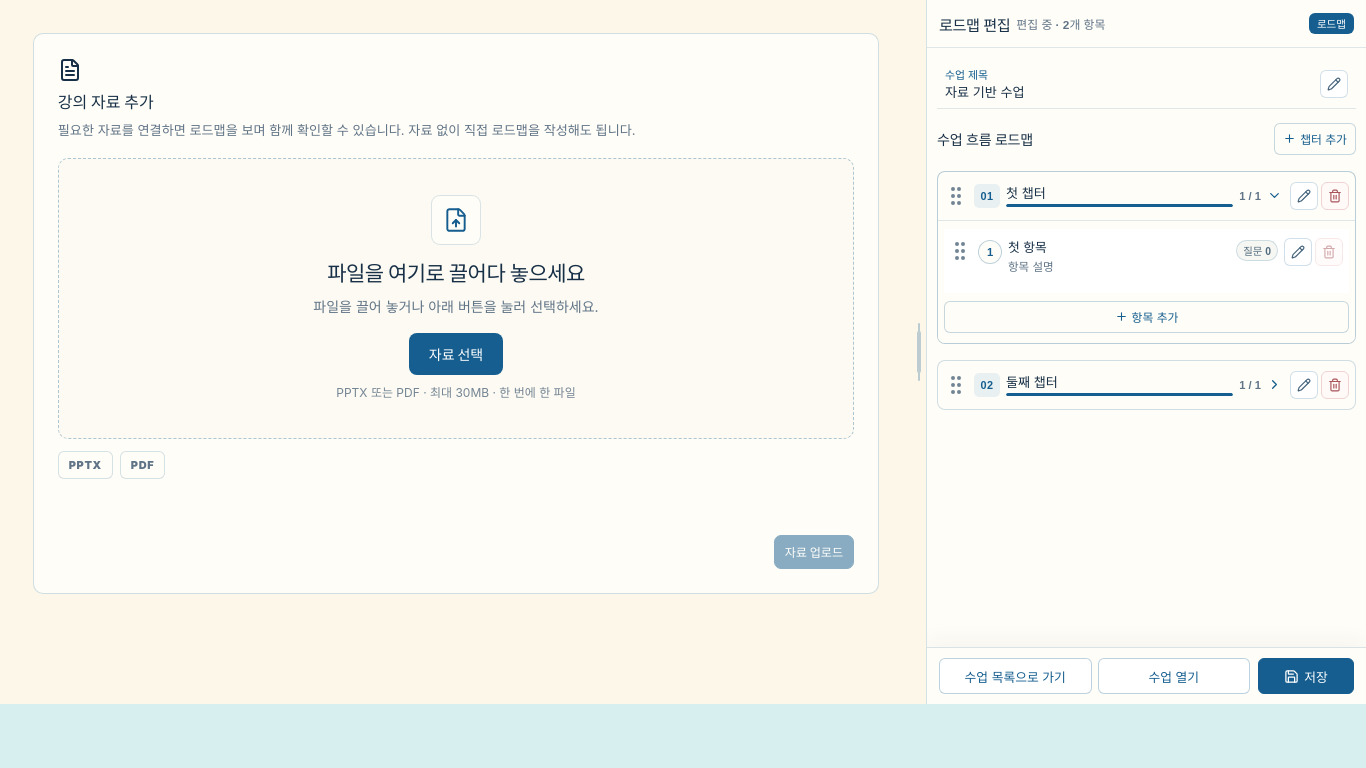
Scenario: CourseFlowEditorPage › 현재 작업 챕터만 기본으로 펼치고 다른 챕터를 선택하면 전환한다
This screenshot has width=1366, height=768.
Expected: the heading "로드맵 편집" is shown, [939,12,1010,34]
Expected: the text "첫 항목" is shown, [1008,240,1047,255]
Click the button with aria-label "챕터 02 펼치기" at (1032, 382), box [970,371,1286,399]
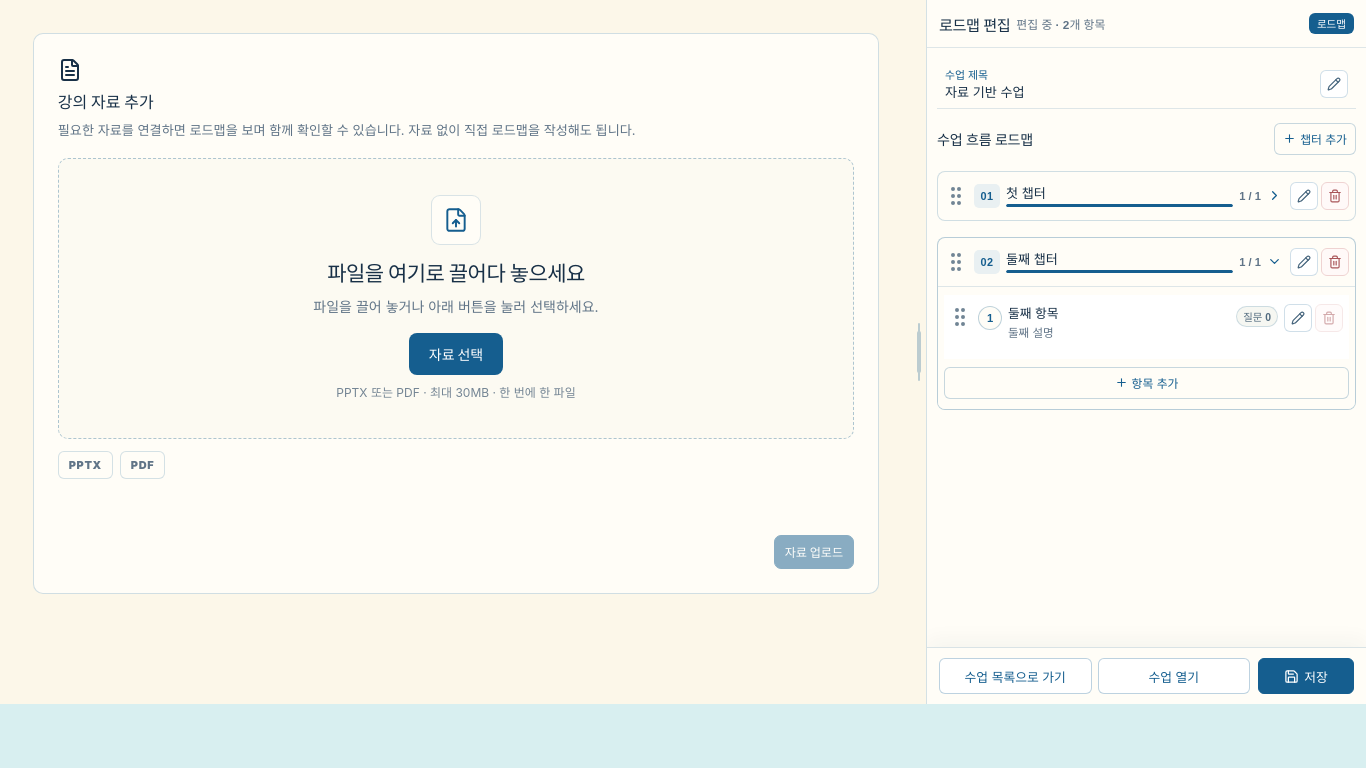
Expected: the button "첫 항목" is gone
Expected: the text "둘째 항목" is shown, [1008,306,1059,321]
